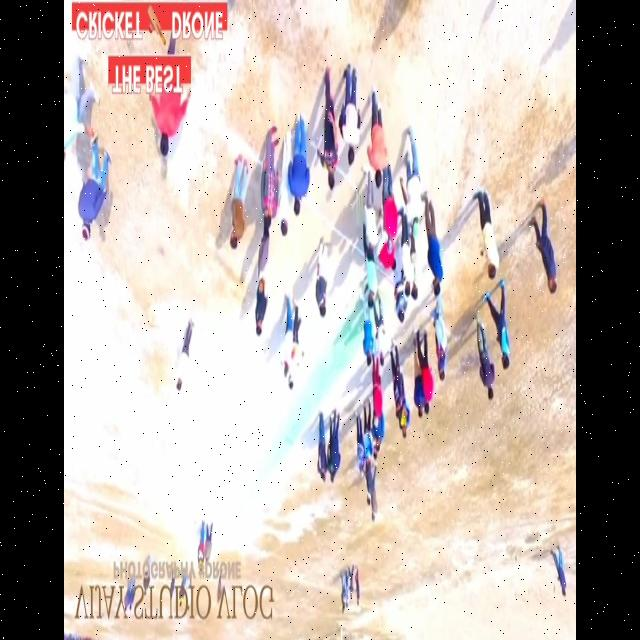humans: (78, 140, 110, 250), (399, 116, 425, 246), (316, 61, 338, 203), (529, 200, 559, 299), (366, 85, 392, 192), (148, 94, 190, 160), (339, 55, 363, 168), (483, 275, 510, 374), (476, 190, 502, 286), (227, 155, 250, 259), (290, 112, 312, 220), (424, 193, 444, 303), (172, 312, 196, 400), (474, 306, 494, 406), (262, 121, 280, 232), (312, 233, 332, 324), (548, 538, 569, 606), (390, 338, 404, 422), (361, 187, 376, 265), (314, 411, 328, 493), (362, 249, 380, 309), (258, 231, 274, 296), (383, 175, 396, 253), (422, 324, 433, 414), (250, 294, 271, 340), (330, 404, 341, 481), (436, 302, 449, 366), (412, 348, 423, 421), (361, 312, 374, 368), (376, 297, 386, 369), (410, 238, 421, 303), (402, 230, 412, 297), (391, 292, 408, 326), (278, 196, 290, 244), (397, 405, 411, 444), (352, 569, 362, 611), (438, 362, 449, 386)
